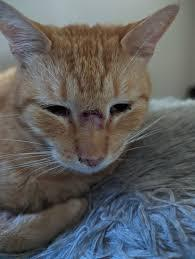cut: (75, 99, 113, 131)
